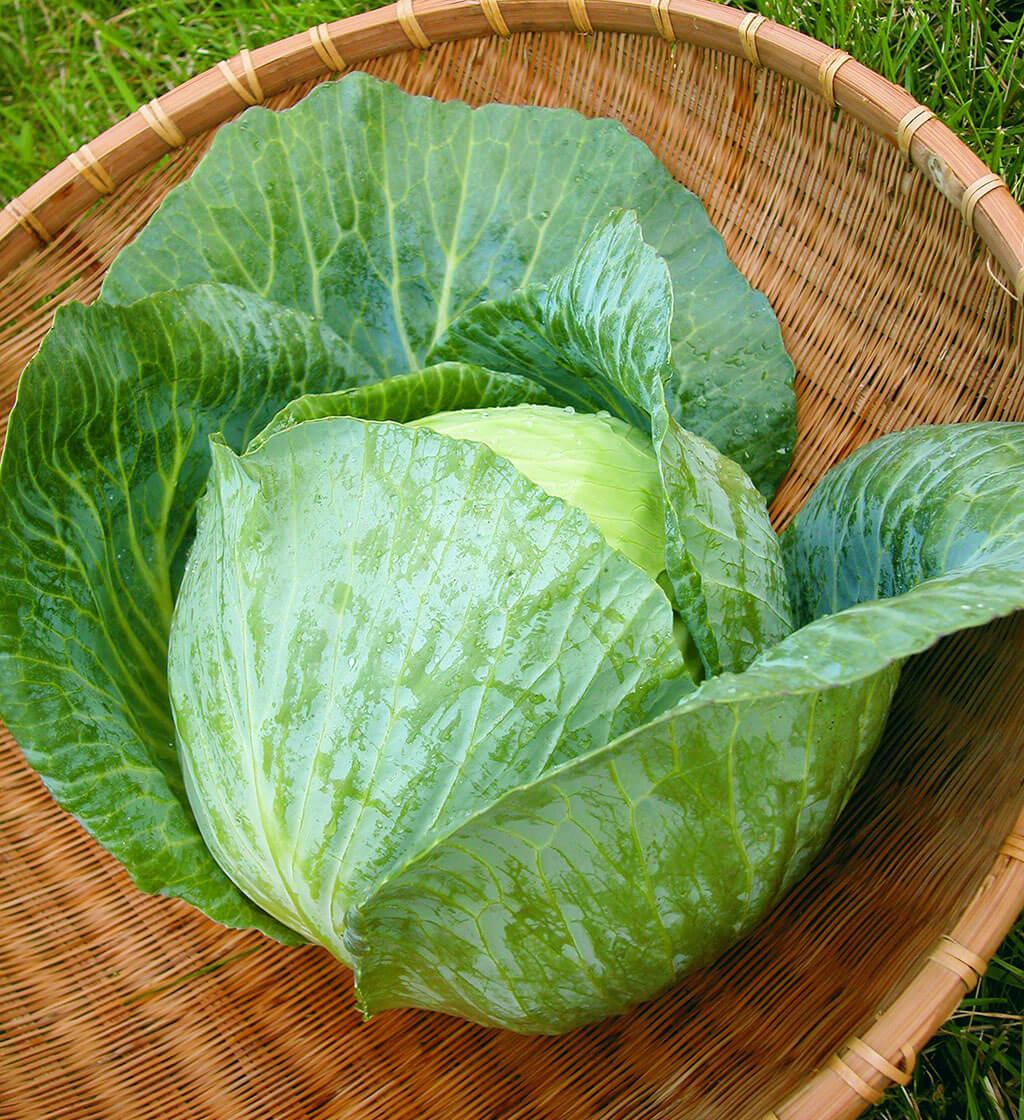cabbage: (1, 70, 1022, 1037)
